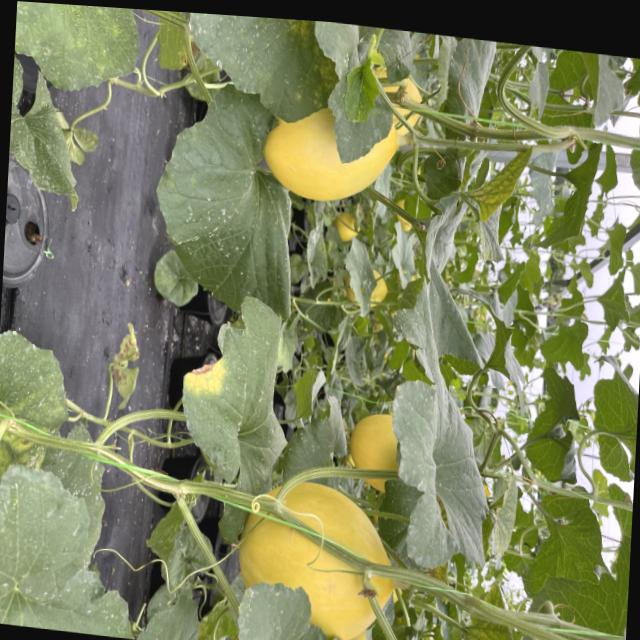CMV: (11, 1, 145, 112)
alternaria leaf blight: (175, 287, 295, 495), (182, 12, 338, 128), (463, 139, 531, 271)
downy mildew: (159, 77, 305, 320), (372, 366, 498, 577), (0, 465, 140, 640)
powdery mildew: (5, 74, 86, 211)
